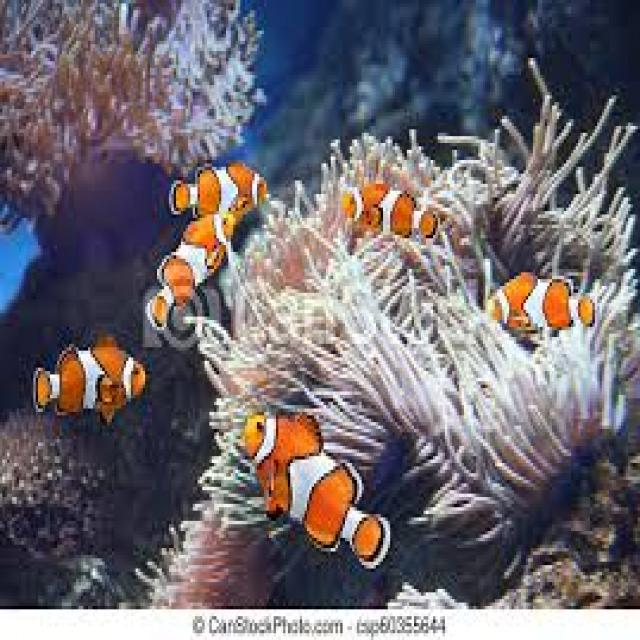Amphiprion-percula: (210, 385, 414, 584), (459, 263, 640, 415), (104, 202, 298, 337), (14, 326, 154, 446), (160, 129, 302, 233), (334, 163, 447, 276)
